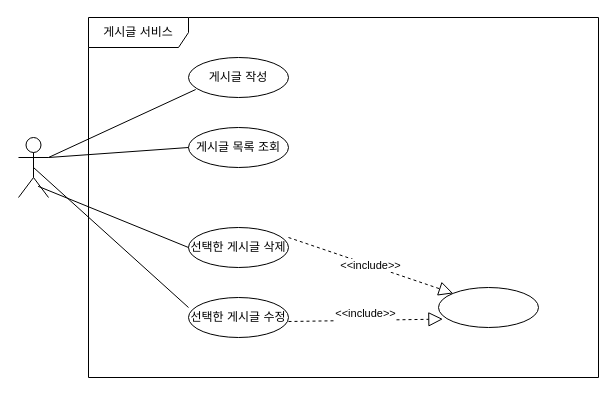
This 616x395 diagram has some shape labels left out. The centre of each missing label's shape, as x and y in pixels:
비밀번호 일치 확인: point (488, 307)
사용자: point (33, 167)
